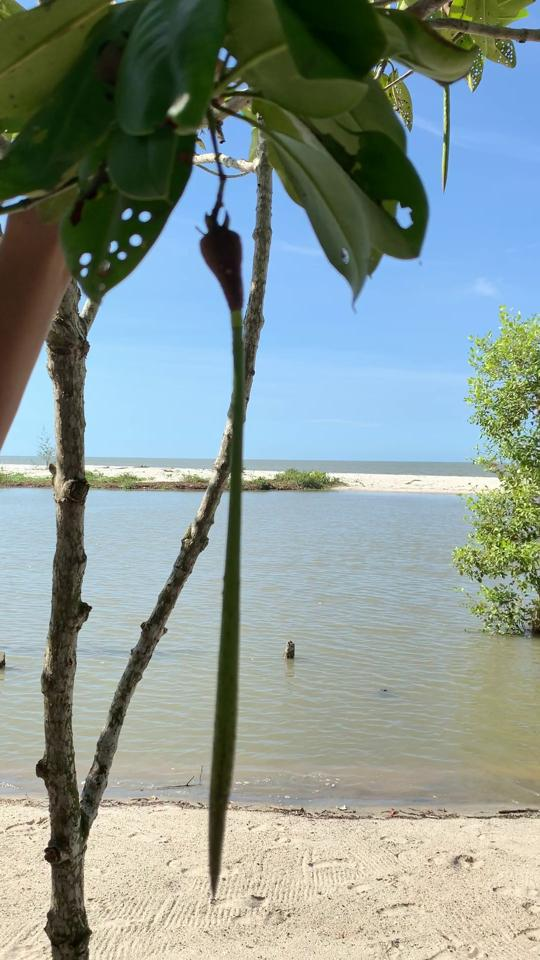setengah matang: (195, 208, 247, 910)
